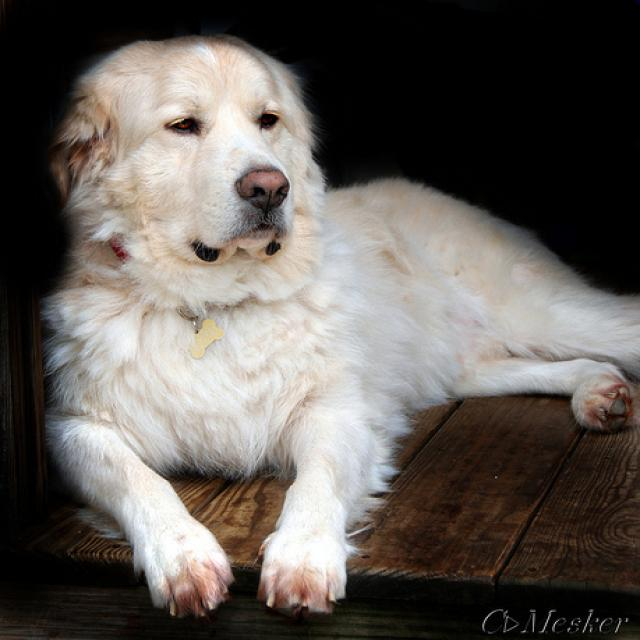dog-great_pyrenees: (24, 27, 637, 632)
